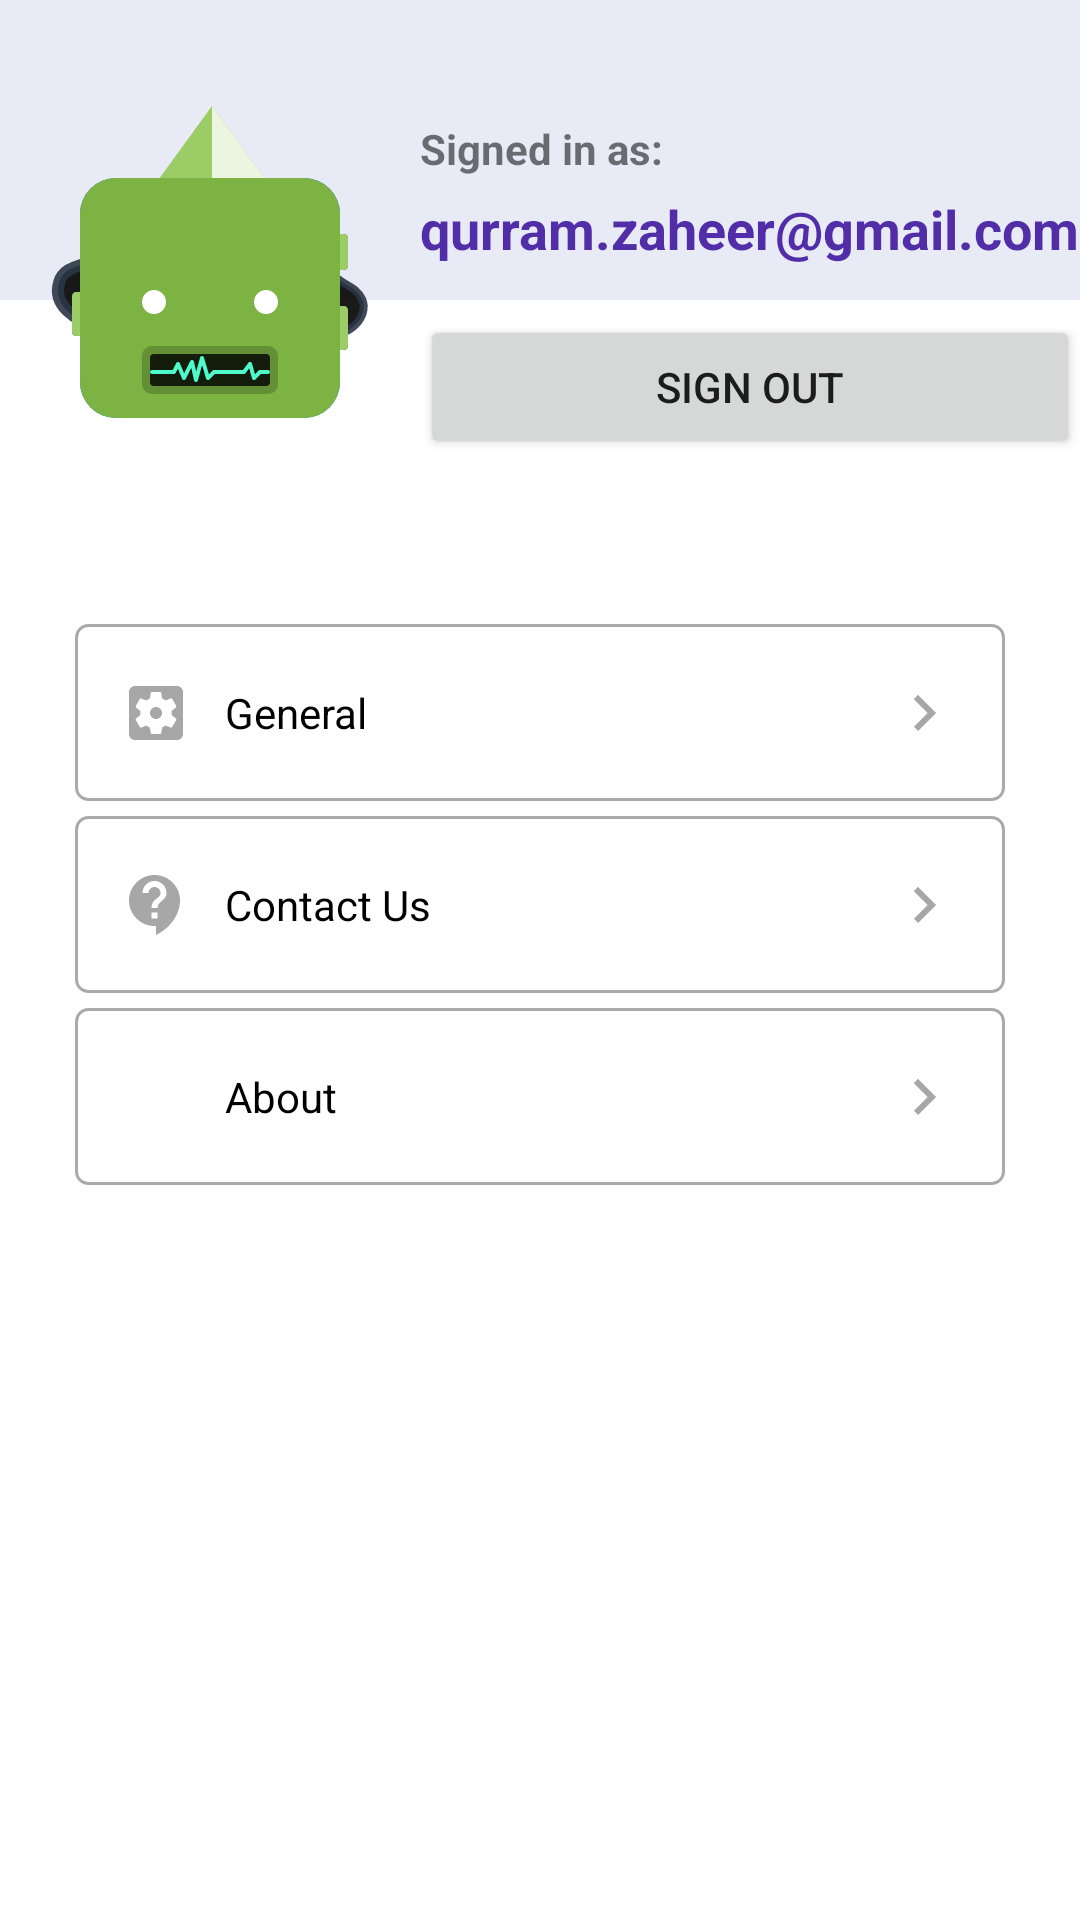

Icons on this 1080px×1920px Android screen, each with its box as [x1,y1,x2,y2]:
bottts: [52,106,368,418]
contact support: [129,875,180,935]
keyboard arrow right: [914,695,936,731], [914,887,936,923], [914,1079,936,1115]
settings applications: [129,686,183,740]
